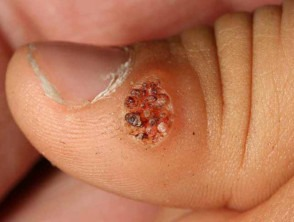Warts: (119, 68, 180, 152)
